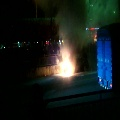fire: (60, 57, 73, 77)
